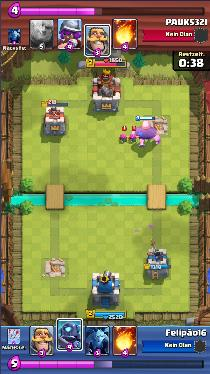ally_giant: (132, 121, 161, 146)
enemy_archer: (118, 133, 128, 143), (127, 132, 137, 142)
